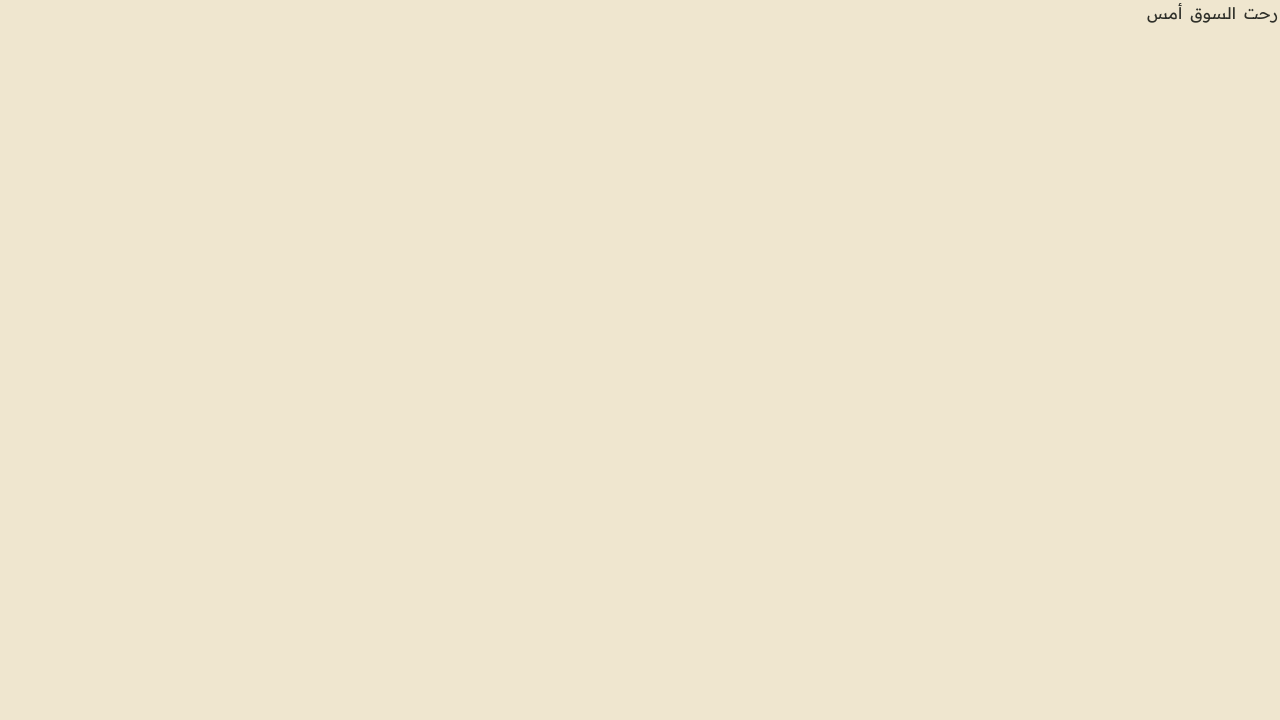
Test: looking a word up › marks a word that has been looked up
The width and height of the screenshot is (1280, 720).
Click the button with aria-label "Look up “السوق”" at (1213, 14), box [1188,0,1238,27]
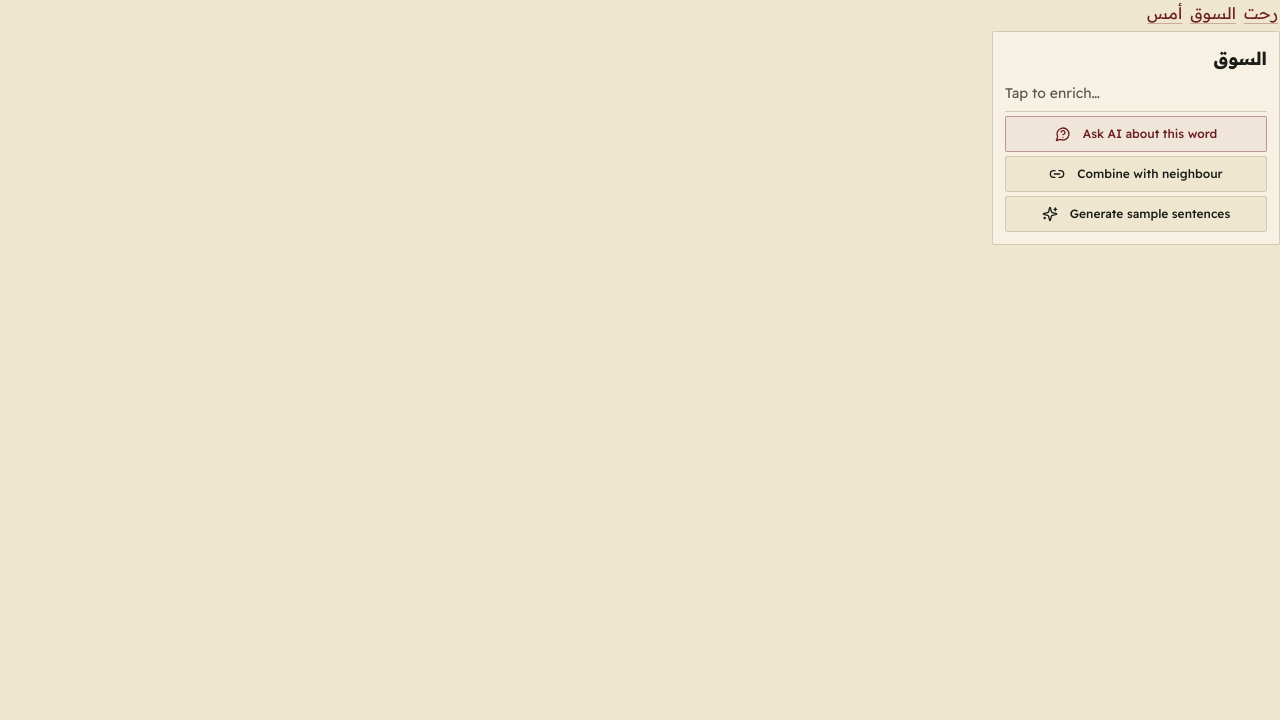
Expected: the button with aria-label "Look up “السوق”" has class "underline", [1188,0,1238,27]
